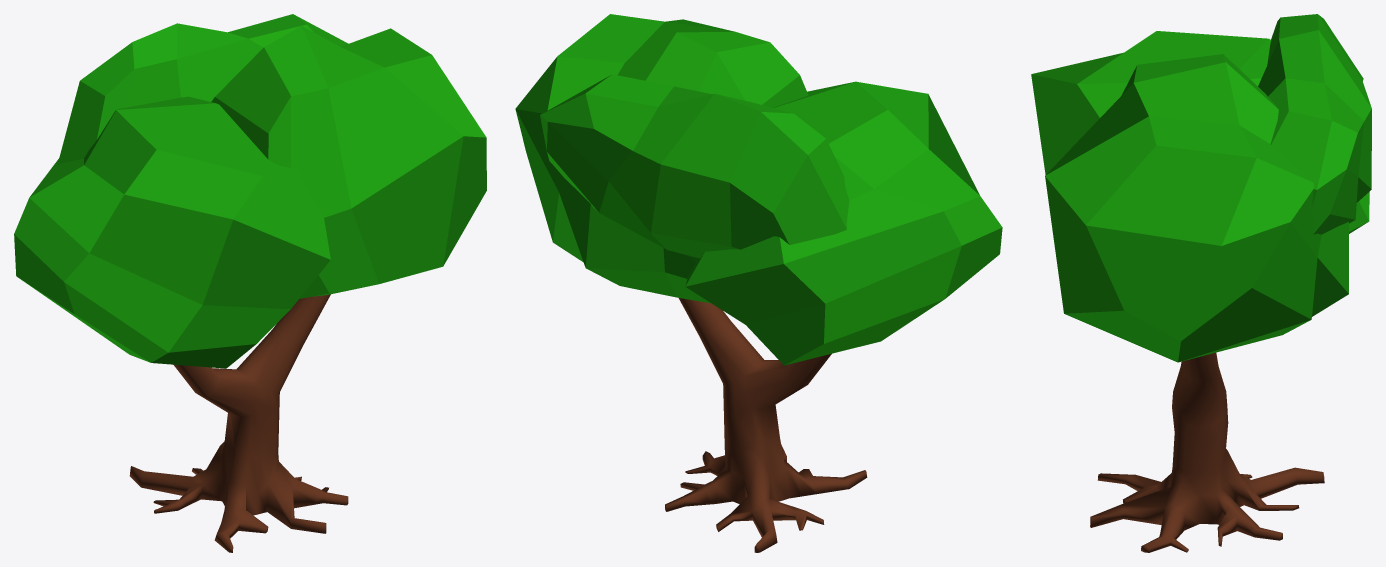
File: TreeRoots.fbx
The picture shows the model from 3 angles, left to right: view 1: azimuth 30°, elevation 25°; view 2: azimuth 150°, elevation 25°; view 3: azimuth 270°, elevation 25°; orthographic projection. The views are drawn at different scales.
Parts seen in each view (by area): view 1: tree.002, tree.001; view 2: tree.002, tree.001; view 3: tree.002, tree.001.
Boxes of the visible parts, bbox=[...] form: tree.002: bbox=[14, 14, 486, 368]; tree.001: bbox=[129, 294, 348, 552]; tree.002: bbox=[515, 14, 1002, 365]; tree.001: bbox=[665, 298, 867, 552]; tree.002: bbox=[1031, 14, 1371, 362]; tree.001: bbox=[1090, 352, 1324, 552].
Size of the model in its own units: 538 by 538 by 341.
